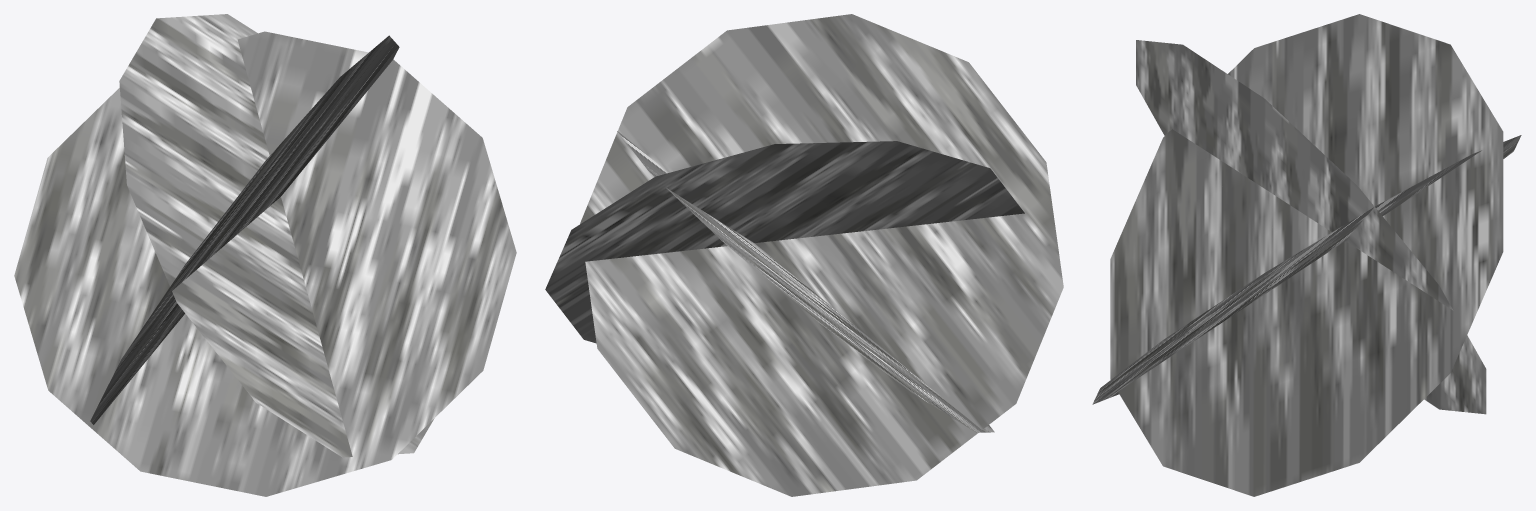
Rendered from mist_3.obj.
3 renders of one model, left to right at view 1: azimuth 30°, elevation 25°; view 2: azimuth 150°, elevation 25°; view 3: azimuth 270°, elevation 25°, orthographic. The views are drawn at different scales.
Parts seen in each view (by area): view 1: cylinder; view 2: cylinder; view 3: cylinder.
Boxes of the visible parts, x1,y1,x2,y2 form: cylinder: (14, 14, 516, 496); cylinder: (545, 14, 1063, 496); cylinder: (1092, 14, 1521, 496).
Bounding box in the file's own units: 1.4 × 1.28 × 1.26.
